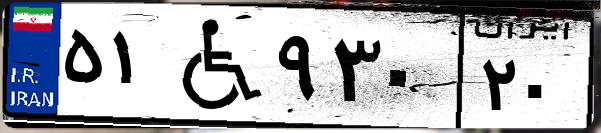0: (385, 28, 445, 110), (525, 38, 570, 115)
1: (110, 28, 158, 98)
2: (475, 38, 525, 113)
3: (330, 28, 385, 110)
5: (57, 26, 110, 100)
9: (270, 28, 330, 110)
ژ (معلولین و جانبازان): (158, 12, 270, 120)
